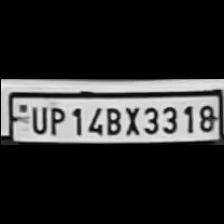1: (65, 104, 83, 136), (178, 102, 196, 132)
3: (140, 102, 158, 134), (160, 102, 178, 134)
4: (84, 104, 104, 134)
8: (195, 101, 217, 133)
B: (102, 104, 120, 136)
P: (46, 104, 66, 136)
U: (26, 102, 48, 134)
X: (122, 103, 140, 135)
